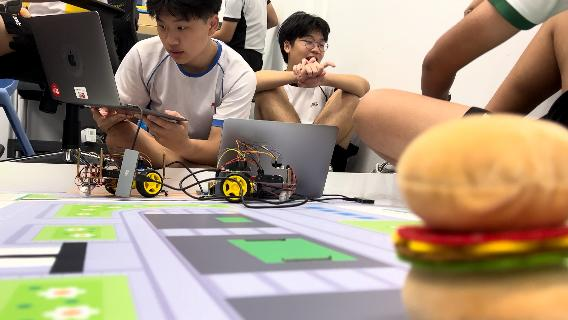burger: (391, 114, 568, 319)
